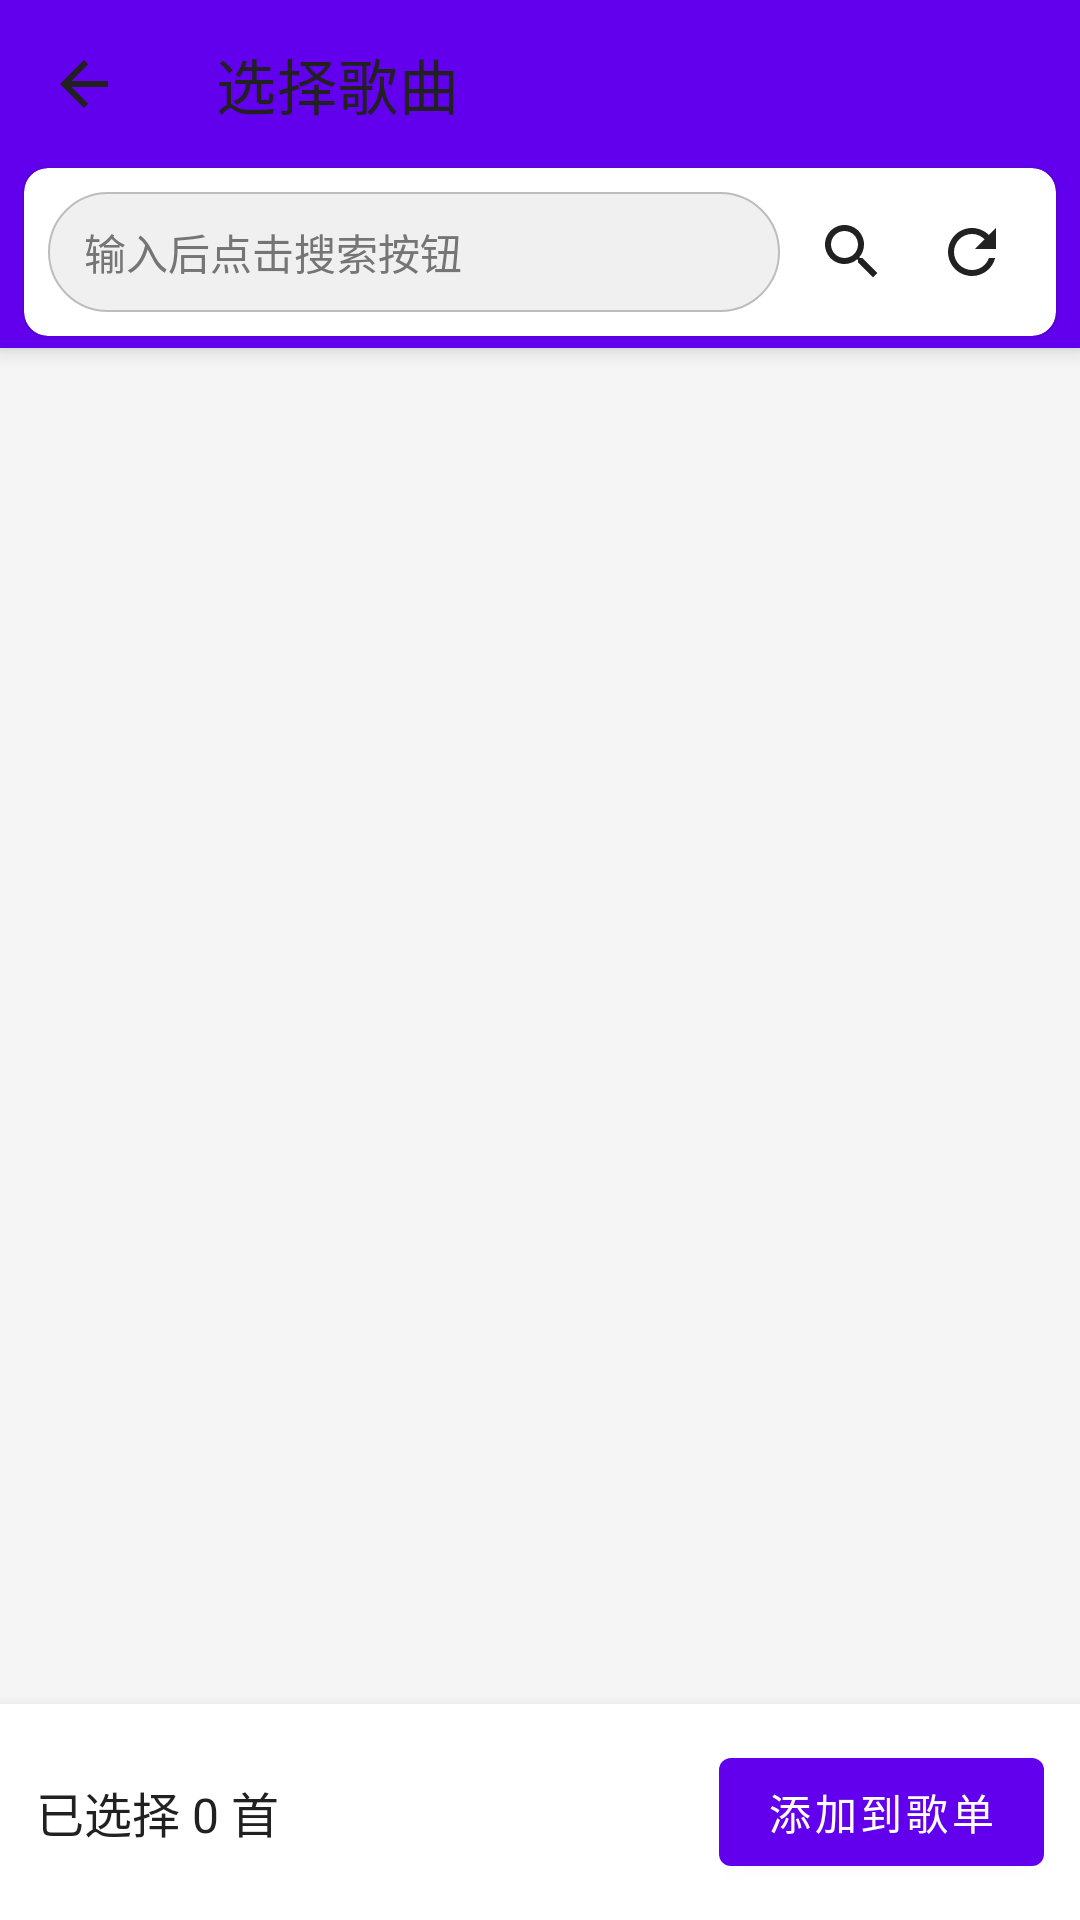

Where icons sit on this 1080px×1920px app screen, as region(x1, y1, x2, y2):
重置: region(948, 228, 996, 276)
